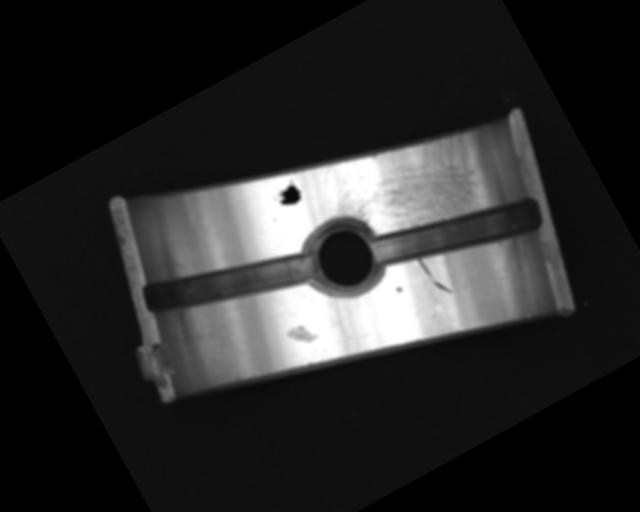blot: (269, 178, 306, 213)
bruise: (285, 318, 318, 350), (394, 285, 404, 295)
gap: (366, 161, 549, 306), (139, 210, 320, 355)
hole: (292, 206, 395, 310)
nick: (415, 252, 453, 301)
scratch: (310, 96, 514, 275)
